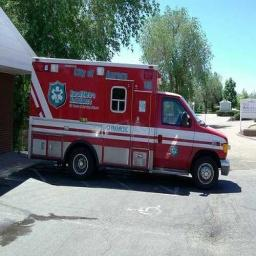ambulance: (29, 58, 229, 188)
